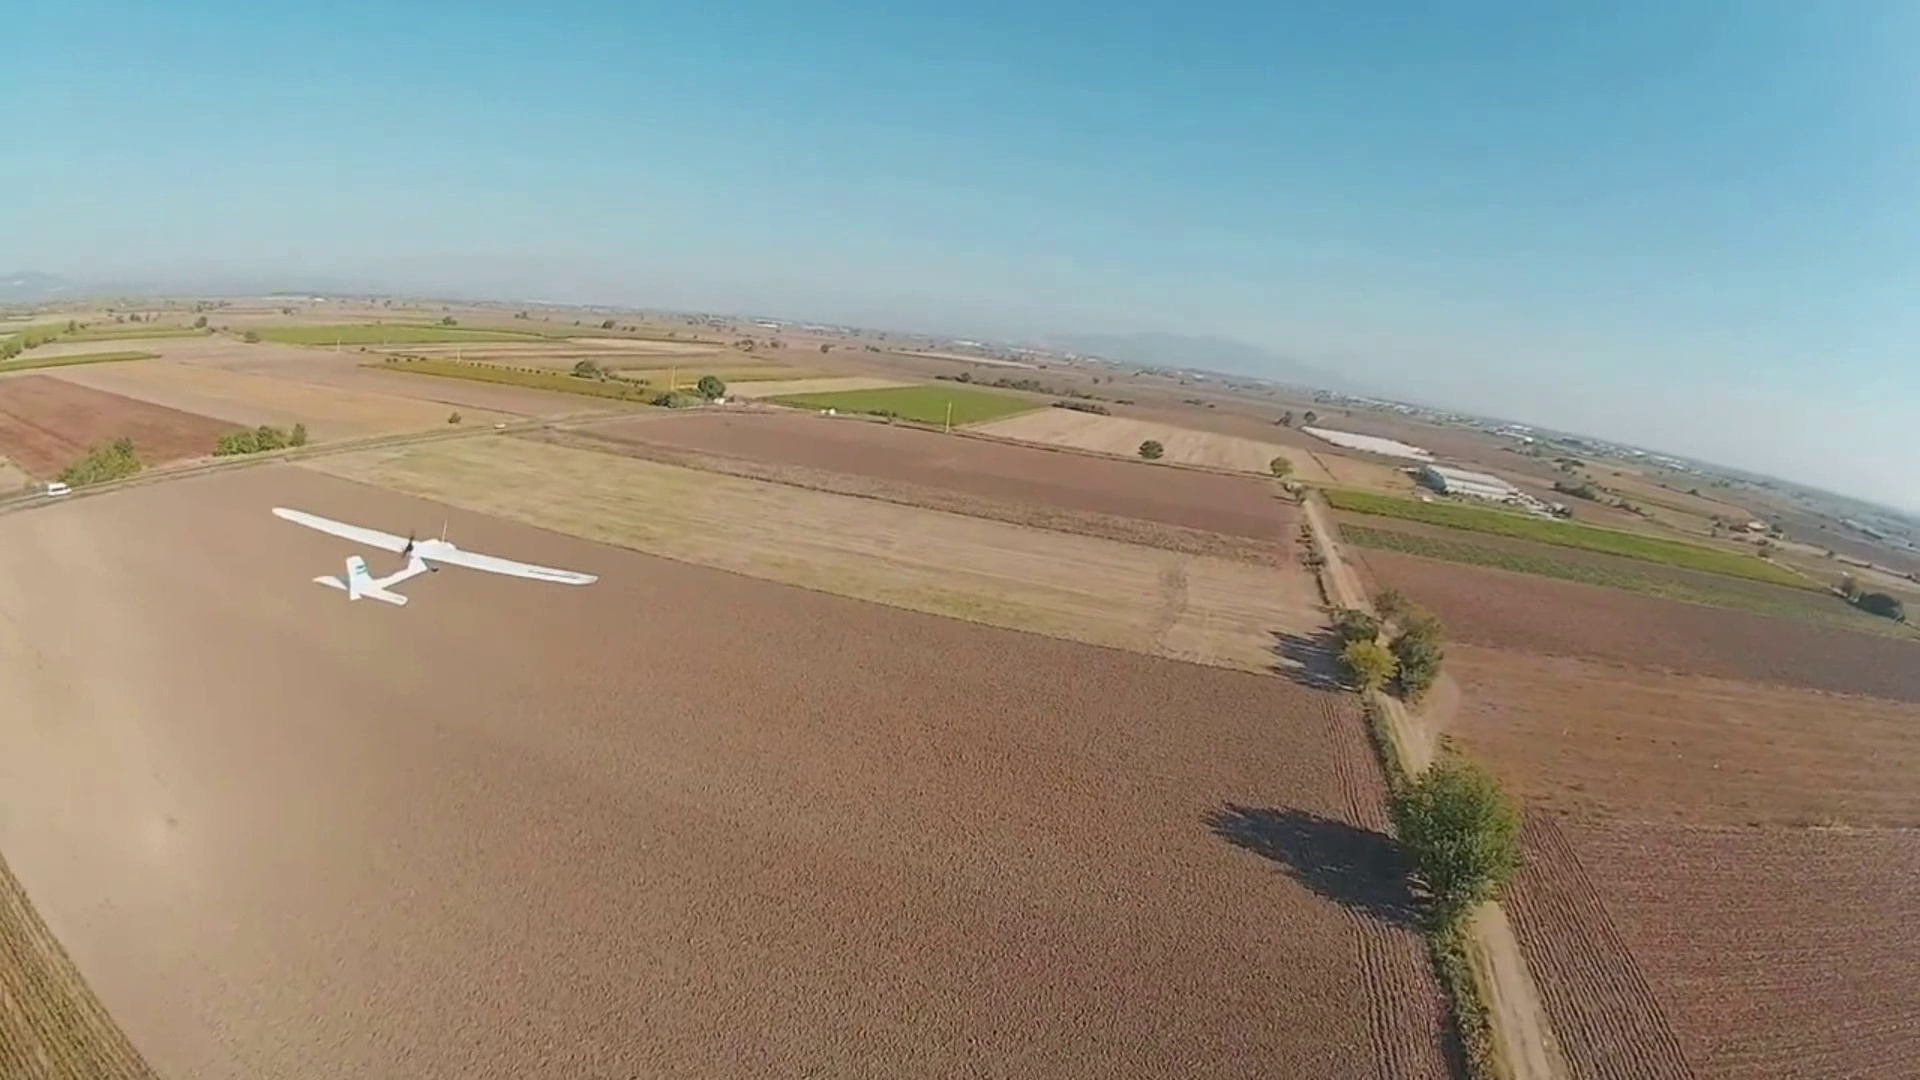airplane: (269, 495, 600, 607)
